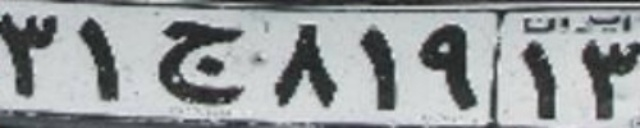1: (75, 16, 122, 100), (354, 23, 397, 109), (521, 40, 557, 117)
3: (1, 11, 63, 97), (577, 39, 637, 119)
8: (273, 24, 337, 105)
9: (417, 23, 480, 109)
jim: (155, 19, 244, 105)
